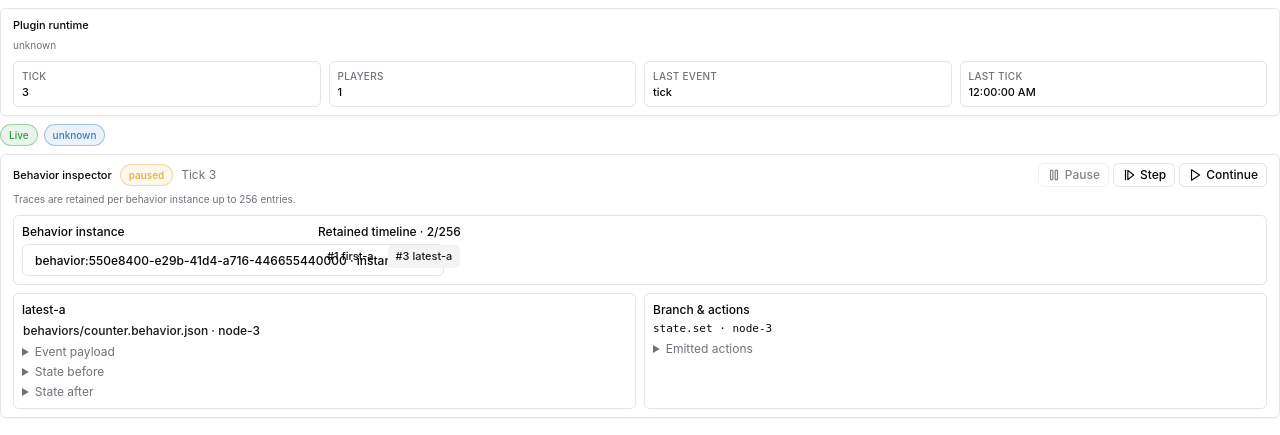
Test: RuntimeTab behavior inspector › keeps interleaved traces selectable as a bounded per-instance timeline
Expected: the text "Retained timeline · 2/256" is shown, [318, 224, 461, 239]
Expected: the text "latest-a" is shown, [22, 302, 66, 317]
Click the button with aria-label "Inspect tick 1 first-a": (350,256) [318, 244, 383, 269]
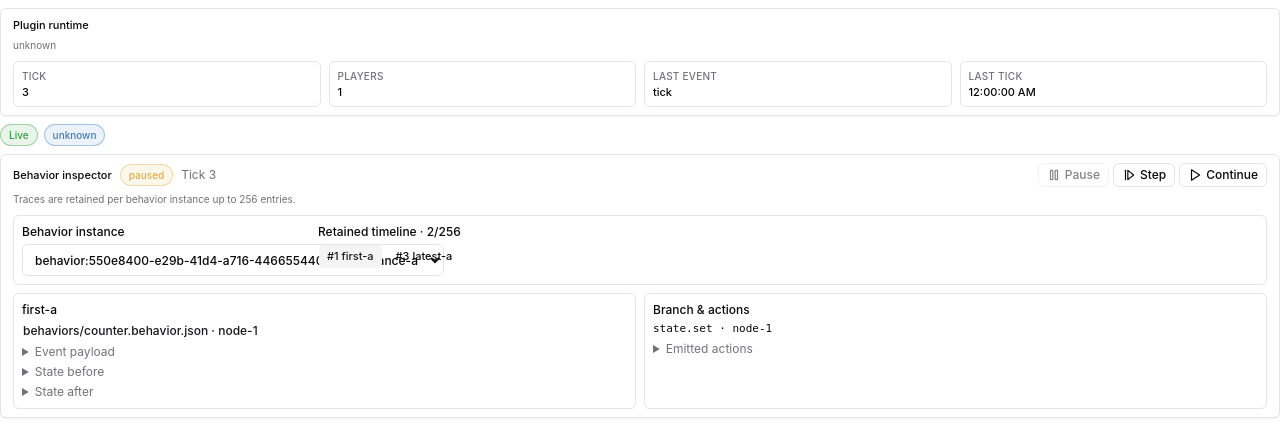
Expected: the text "first-a" is shown, [22, 302, 57, 317]
Select "behavior:550e8400-e29b-41d4-a716-446655440000 · instance-b" in the dropdown labelled "Behavior instance": (233,260) [22, 244, 444, 276]
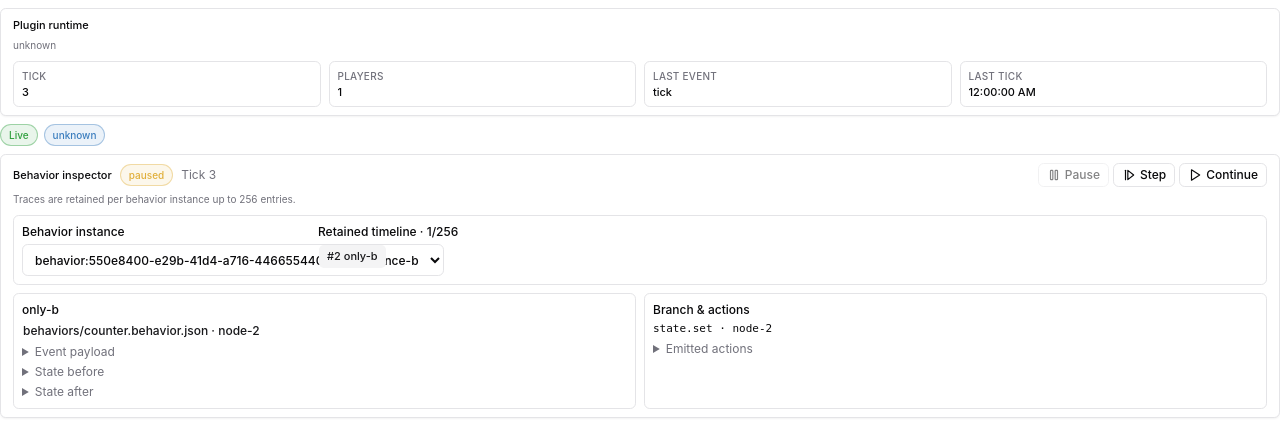
Expected: the text "Retained timeline · 1/256" is shown, [318, 224, 458, 239]
Expected: the text "only-b" is shown, [22, 302, 59, 317]
